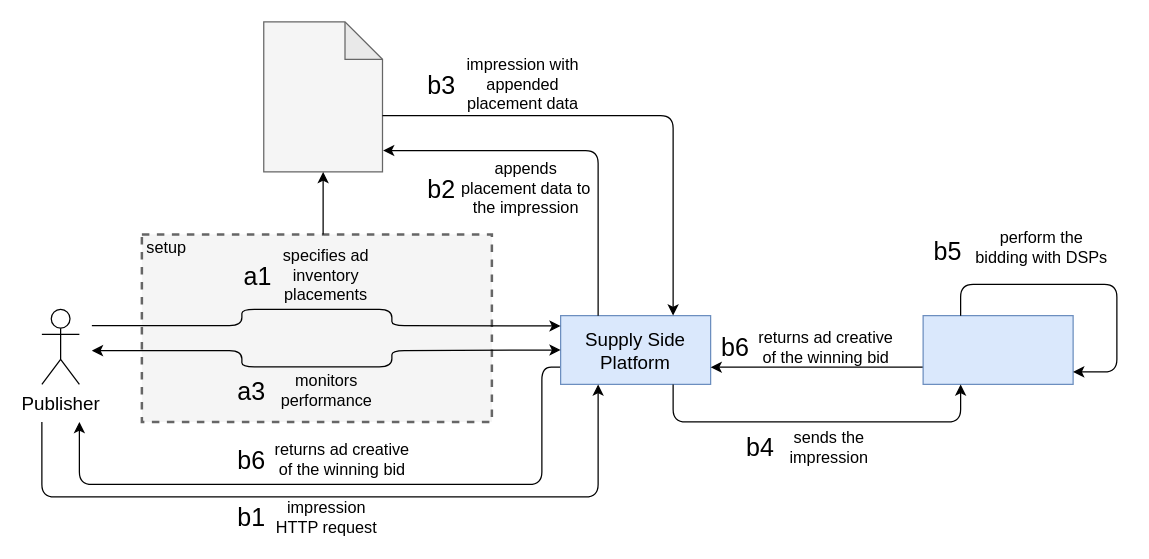
This 1149x559 diagram has some shape labels left out. Here are the shapes that lost their labels. From the top down, the centre of each, then its label:
pixel 322 96: - app - platform - ad type - categories - age group
pixel 997 349: Ad exchange
